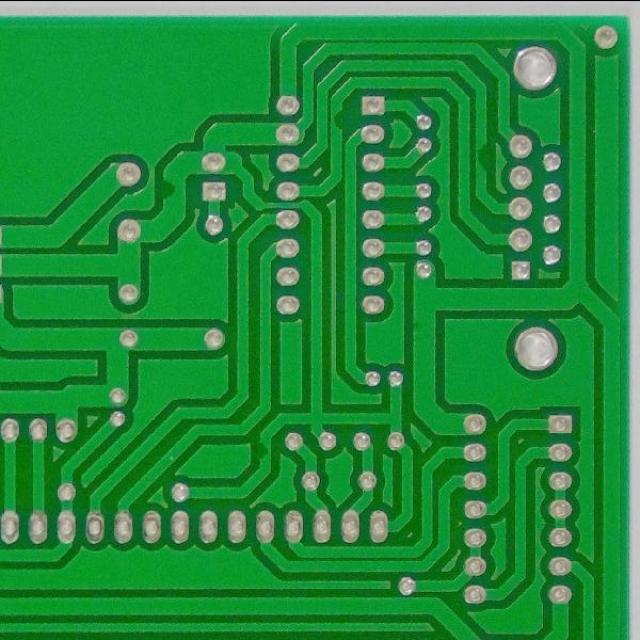mouse_bite: (469, 138, 494, 178), (254, 434, 278, 465), (328, 104, 351, 134)
